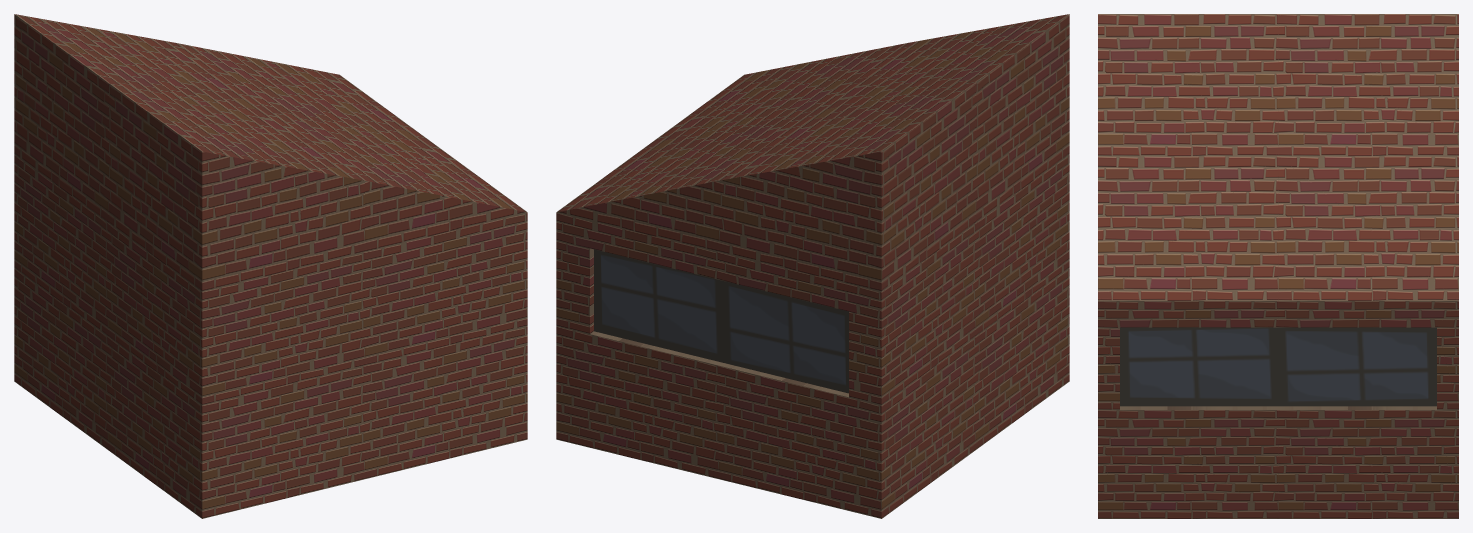
Rendered from Bock_A4.fbx.
3 views of the same model, side by side, from view 1: azimuth 30°, elevation 25°; view 2: azimuth 150°, elevation 25°; view 3: azimuth 270°, elevation 25° (orthographic). The views are drawn at different scales.
Parts seen in each view (by area): view 1: Bock_A4; view 2: Bock_A4; view 3: Bock_A4.
Boxes of the visible parts, x1,y1,x2,y2 form: Bock_A4: [14, 14, 527, 518]; Bock_A4: [556, 14, 1069, 518]; Bock_A4: [1098, 14, 1458, 518].
Bounding box in the file's own units: 600 × 647 × 600.
1 material, 1 textured.
